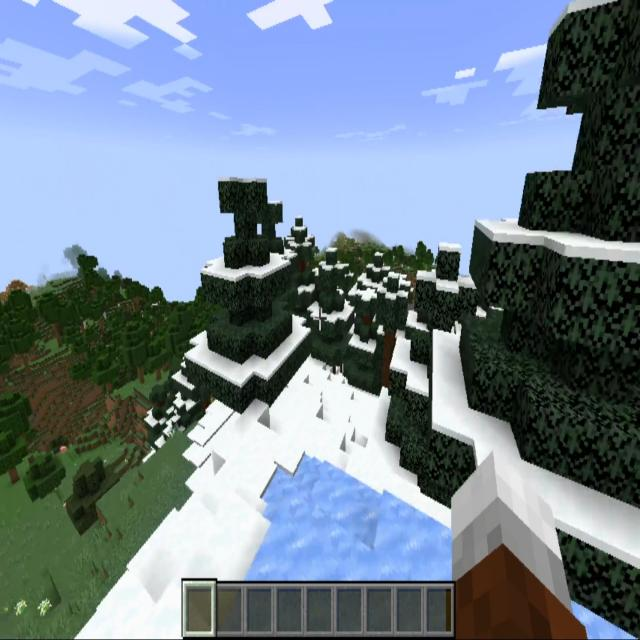Pig: (59, 442, 69, 458)
